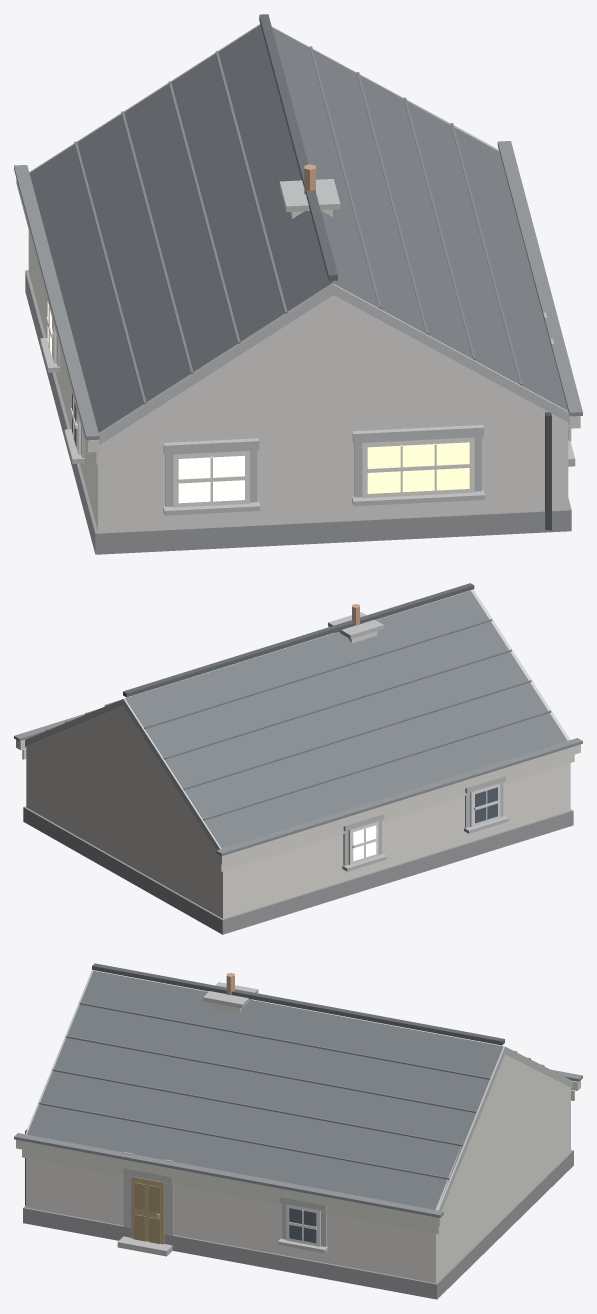
3 views of the same model, one above another, from view 1: azimuth 30°, elevation 25°; view 2: azimuth 150°, elevation 25°; view 3: azimuth 270°, elevation 25° (orthographic). The views are drawn at different scales.
Parts seen in each view (by area): view 1: slate, harl, stone_band, plinth, lead, slate_lt, windows, frame, slate_dk, string, pipe; view 2: slate, harl, plinth, string, stone_band, slate_lt, lead, slate_dk, windows, frame; view 3: slate, harl, plinth, string, stone_band, slate_lt, lead, slate_dk, door_wood_p, door_wood, windows, frame.
Part boxes in pixels (left/top/right/bottom): slate: left=29, top=25, right=567, bottom=432; harl: left=28, top=152, right=568, bottom=532; stone_band: left=29, top=24, right=575, bottom=515; plinth: left=25, top=270, right=571, bottom=554; lead: left=14, top=141, right=582, bottom=440; slate_lt: left=74, top=46, right=522, bottom=404; windows: left=47, top=301, right=469, bottom=503; frame: left=46, top=306, right=474, bottom=507; slate_dk: left=259, top=14, right=337, bottom=280; string: left=16, top=147, right=580, bottom=464; pipe: left=545, top=412, right=551, bottom=530; slate: left=125, top=590, right=567, bottom=848; harl: left=26, top=706, right=570, bottom=918; plinth: left=23, top=806, right=573, bottom=934; string: left=16, top=740, right=580, bottom=871; stone_band: left=25, top=589, right=570, bottom=871; slate_lt: left=45, top=619, right=551, bottom=820; lead: left=14, top=714, right=582, bottom=856; slate_dk: left=123, top=583, right=474, bottom=697; windows: left=353, top=787, right=497, bottom=861; frame: left=348, top=783, right=500, bottom=864; slate: left=27, top=970, right=503, bottom=1209; harl: left=26, top=1054, right=570, bottom=1283; plinth: left=23, top=1150, right=573, bottom=1299; string: left=16, top=1080, right=580, bottom=1234; stone_band: left=25, top=970, right=572, bottom=1256; slate_lt: left=39, top=1002, right=557, bottom=1179; lead: left=14, top=1069, right=582, bottom=1217; slate_dk: left=92, top=963, right=504, bottom=1045; door_wood_p: left=134, top=1182, right=160, bottom=1243; door_wood: left=131, top=1176, right=164, bottom=1244; windows: left=289, top=1208, right=316, bottom=1242; frame: left=286, top=1204, right=320, bottom=1246.
Size of the model in its own units: 13.97 by 6.17 by 15.37.
